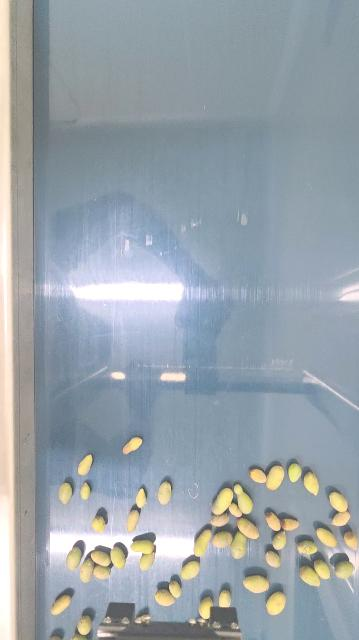Baby Potato: (233, 482, 255, 516), (212, 485, 235, 516), (266, 589, 288, 617), (242, 573, 271, 594), (237, 516, 261, 541), (194, 527, 213, 558), (266, 463, 286, 492), (49, 592, 73, 616), (315, 525, 339, 549), (299, 563, 322, 588), (230, 531, 249, 559), (303, 470, 322, 497), (334, 559, 357, 580), (329, 490, 349, 513), (313, 557, 332, 581), (296, 538, 320, 557), (66, 546, 83, 572), (181, 558, 201, 580), (264, 510, 284, 532), (211, 529, 234, 548), (157, 480, 173, 505), (110, 546, 127, 569), (131, 538, 155, 554), (155, 588, 175, 607), (122, 436, 143, 454), (79, 558, 94, 583), (57, 482, 73, 505), (271, 530, 289, 550), (331, 510, 352, 527), (90, 549, 111, 566), (77, 454, 93, 476), (265, 549, 283, 568), (199, 596, 213, 620), (126, 509, 140, 533), (343, 529, 359, 550), (77, 614, 92, 636), (288, 461, 303, 483), (249, 466, 267, 484), (281, 516, 301, 532), (218, 588, 233, 609), (139, 552, 155, 571), (92, 564, 110, 580), (210, 513, 230, 527), (135, 487, 147, 509), (92, 515, 106, 533), (229, 502, 243, 518), (169, 580, 182, 597), (80, 482, 91, 500), (69, 634, 85, 640), (44, 635, 62, 640)
